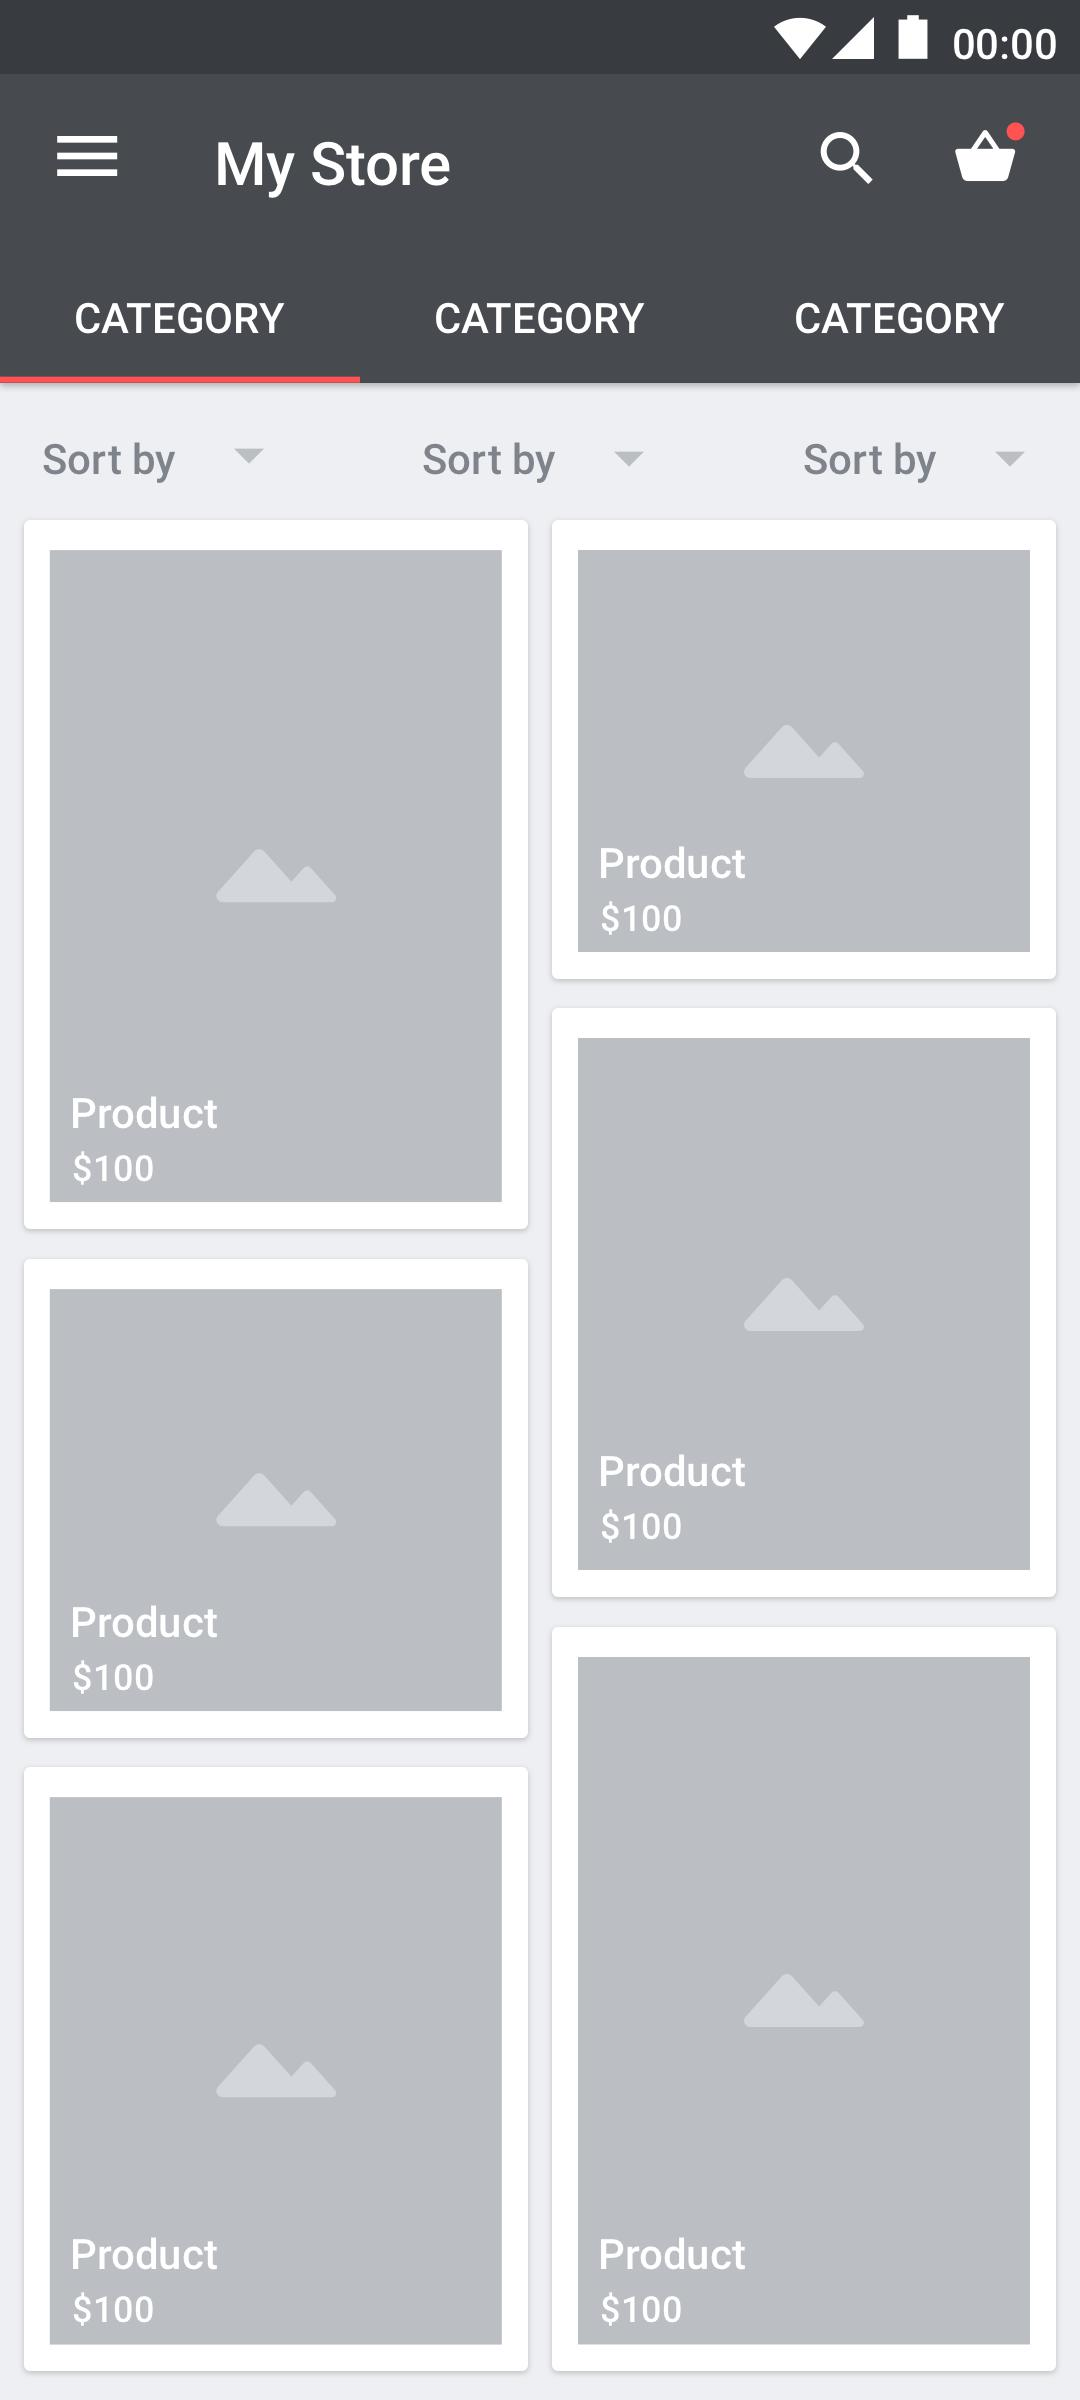Card: (551, 1626, 1059, 2372), (23, 519, 529, 1231), (23, 1766, 529, 2372), (551, 1007, 1059, 1599), (24, 1258, 529, 1740), (551, 519, 1059, 981)
Icon: (955, 122, 1026, 185), (821, 132, 875, 188), (55, 135, 121, 179), (994, 450, 1025, 468), (612, 452, 646, 467), (236, 448, 265, 464)
Image: (577, 1656, 1031, 2346), (50, 549, 503, 1203), (50, 1795, 503, 2346), (577, 1038, 1033, 1570), (50, 1287, 503, 1713), (577, 549, 1033, 954)
Multi_Tab: (2, 217, 1080, 384)
Text: (217, 142, 451, 201), (794, 302, 1008, 338), (434, 302, 649, 335), (76, 302, 288, 335), (72, 1094, 222, 1133), (44, 441, 176, 484), (600, 845, 750, 882), (422, 442, 555, 484), (802, 444, 936, 484), (600, 2236, 750, 2271), (72, 2236, 220, 2271), (72, 1606, 219, 1641), (598, 1454, 743, 1489), (73, 2290, 155, 2327), (603, 2291, 682, 2328), (601, 900, 682, 935), (73, 1151, 158, 1185), (73, 1661, 155, 1694), (600, 1511, 681, 1541)
Toolbar: (2, 77, 1080, 217)
UpperTaskBar: (2, 2, 1080, 77)
